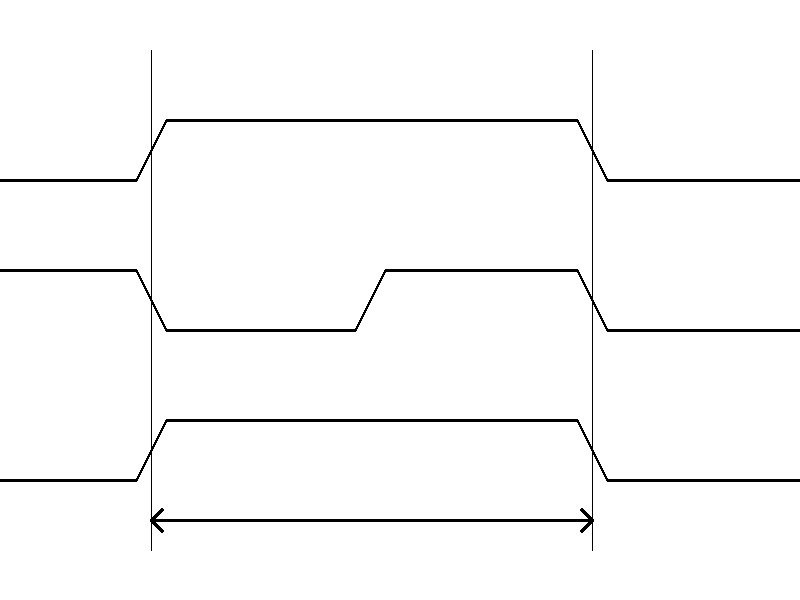double_arrow: (151, 505, 592, 535)
